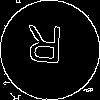R: (25, 25, 64, 73)
